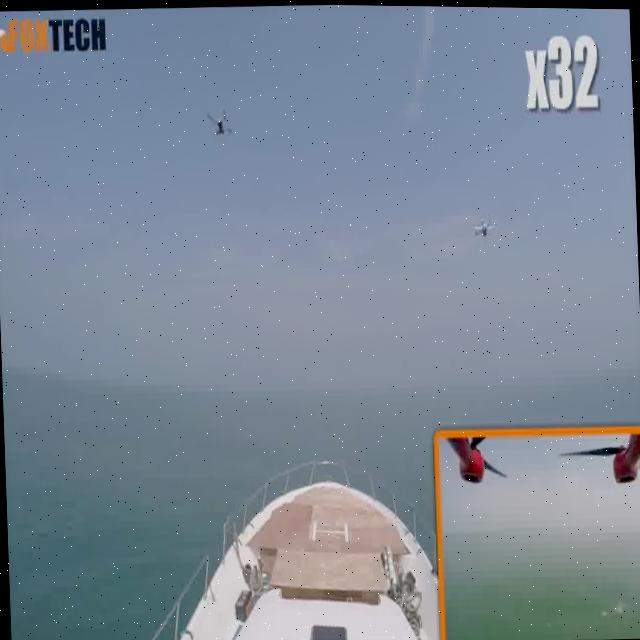drone: (194, 97, 248, 158), (464, 205, 500, 246)
